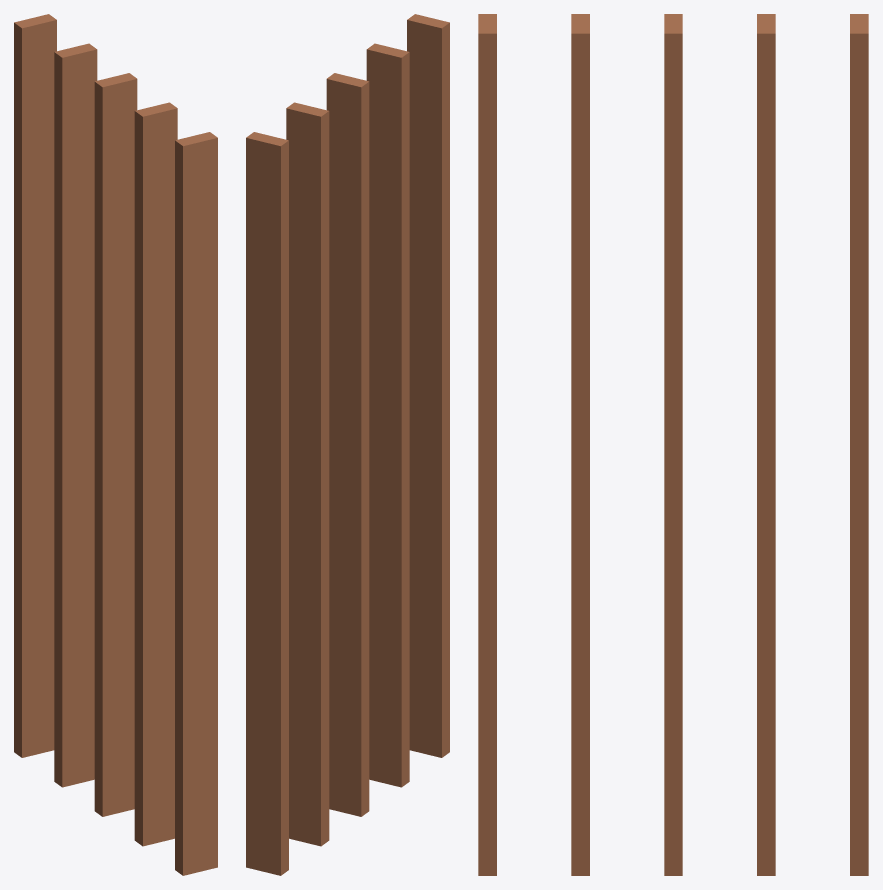
Rendered from SM_Build_Pallisade_3.fbx.
The picture shows the model from 3 angles, left to right: view 1: azimuth 30°, elevation 25°; view 2: azimuth 150°, elevation 25°; view 3: azimuth 270°, elevation 25°; orthographic projection. The views are drawn at different scales.
Parts seen in each view (by area): view 1: Pallisade 3; view 2: Pallisade 3; view 3: Pallisade 3.
Part boxes in pixels (left/top/right/bottom): Pallisade 3: left=14, top=14, right=217, bottom=875; Pallisade 3: left=246, top=14, right=449, bottom=875; Pallisade 3: left=478, top=14, right=868, bottom=875.
Bounding box in the file's own units: 0.2 × 4 × 1.68.
